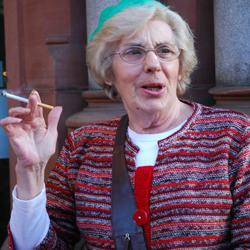cigarro: (4, 88, 57, 111)
fumador: (11, 8, 236, 235)
